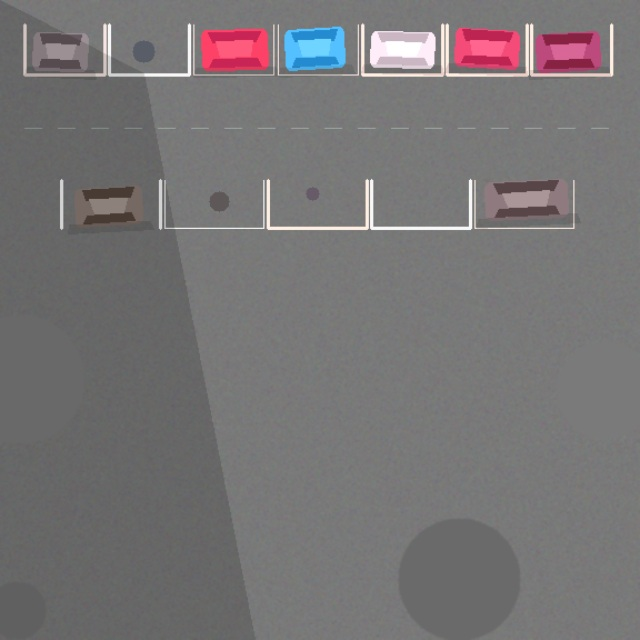space-empty: (164, 180, 263, 228), (268, 180, 367, 228), (371, 180, 470, 228), (109, 24, 189, 74)
space-occupied: (61, 180, 160, 228), (474, 180, 573, 228), (24, 24, 104, 74), (193, 24, 273, 74), (278, 24, 358, 74), (362, 24, 442, 74), (447, 24, 527, 74), (531, 24, 611, 74)
